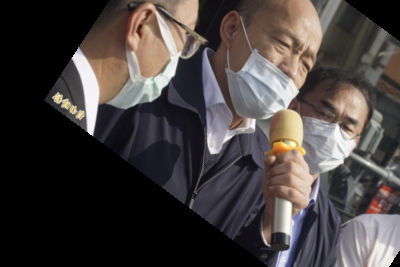mask_weared_incorrect: (212, 2, 325, 126)
